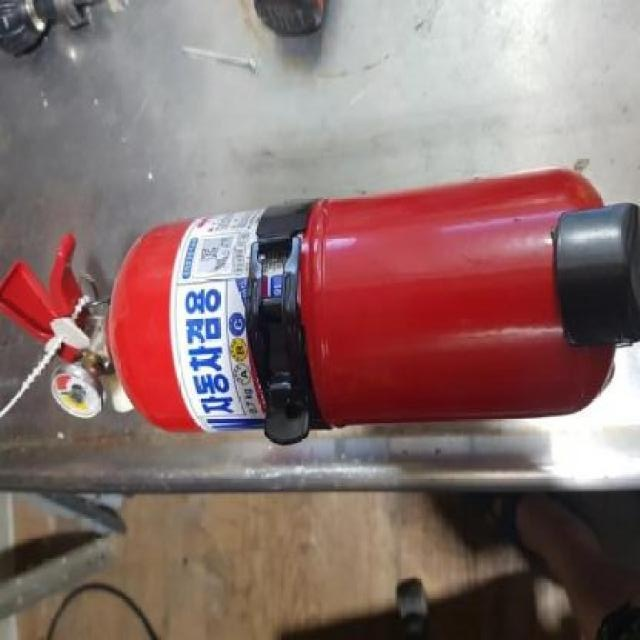fire extinguisher: (0, 165, 640, 446)
